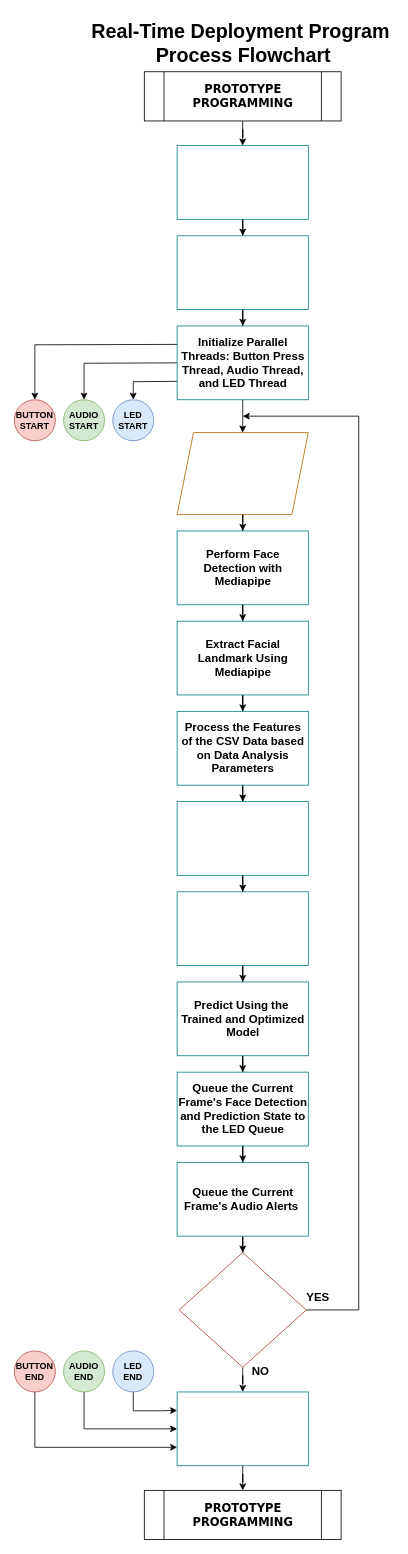
This 408x1554 diagram has some shape labels left out. The shapes that lost their labels are listed below. From the top down, each one's centre as x and y in pixels, then its label:
At [242,182]: "Initialize Data Path, Variables, Functions, and Quantized Model".
At [242,272]: "Obtain the Camera Settings and Configure the Video Capture Parameter".
At [242,473]: "Read 1 Image Frame From the Web Camera with Video Capture Object".
At [242,838]: "Calculate the EAR, MAR, Yaw, Pitch, and Roll Features Simultaneously".
At [242,928]: "Prepare the data into Sequences of 100 Frames or Time Sequence".
At [242,1309]: "Is the Stop Event Not Set?".
At [242,1428]: "Wait for All Threads to End".
